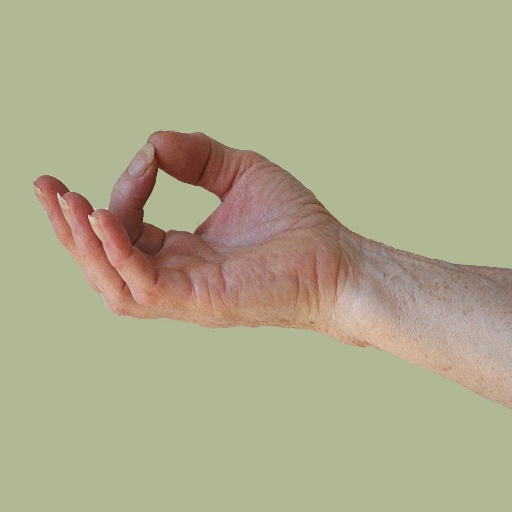hand: (34, 132, 349, 339)
